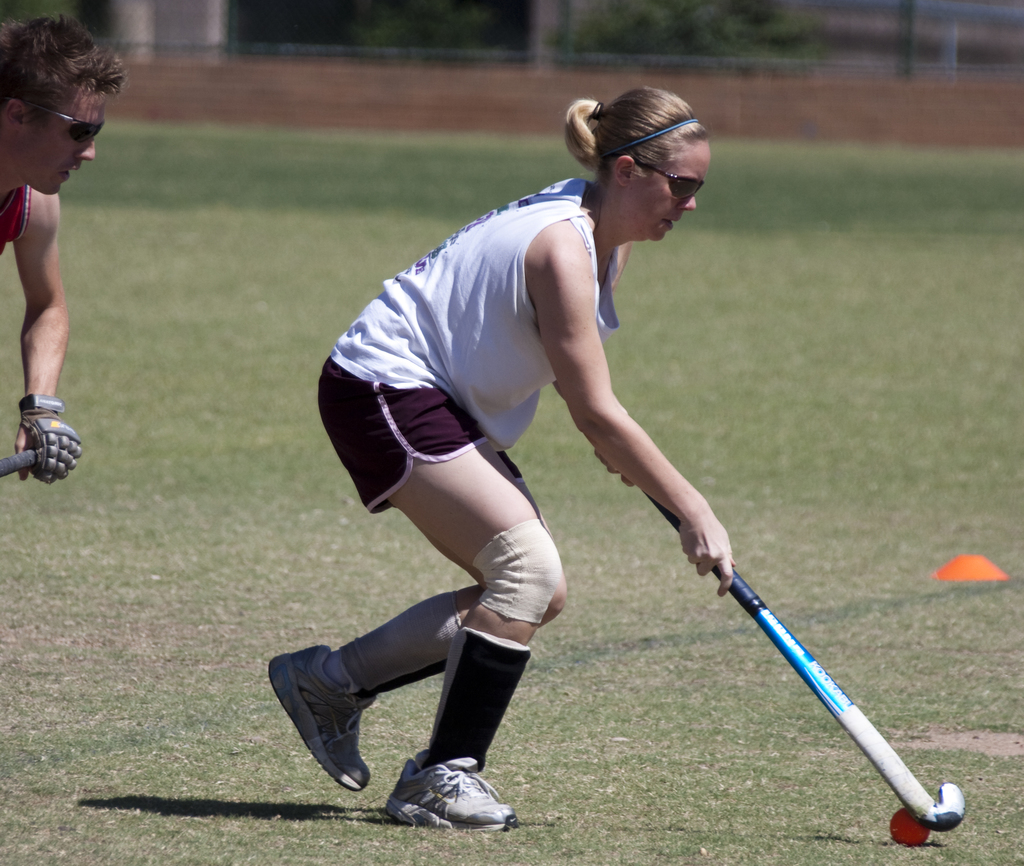Ball: (886, 809, 934, 846)
